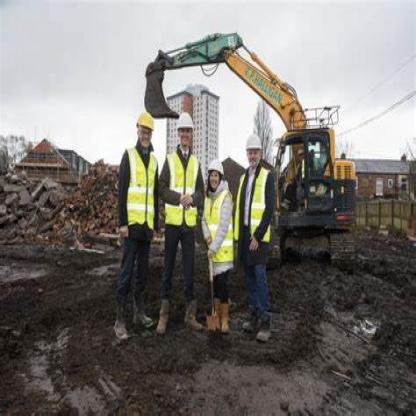person: (107, 102, 155, 335), (158, 95, 198, 346), (238, 123, 282, 346), (202, 144, 236, 346)
